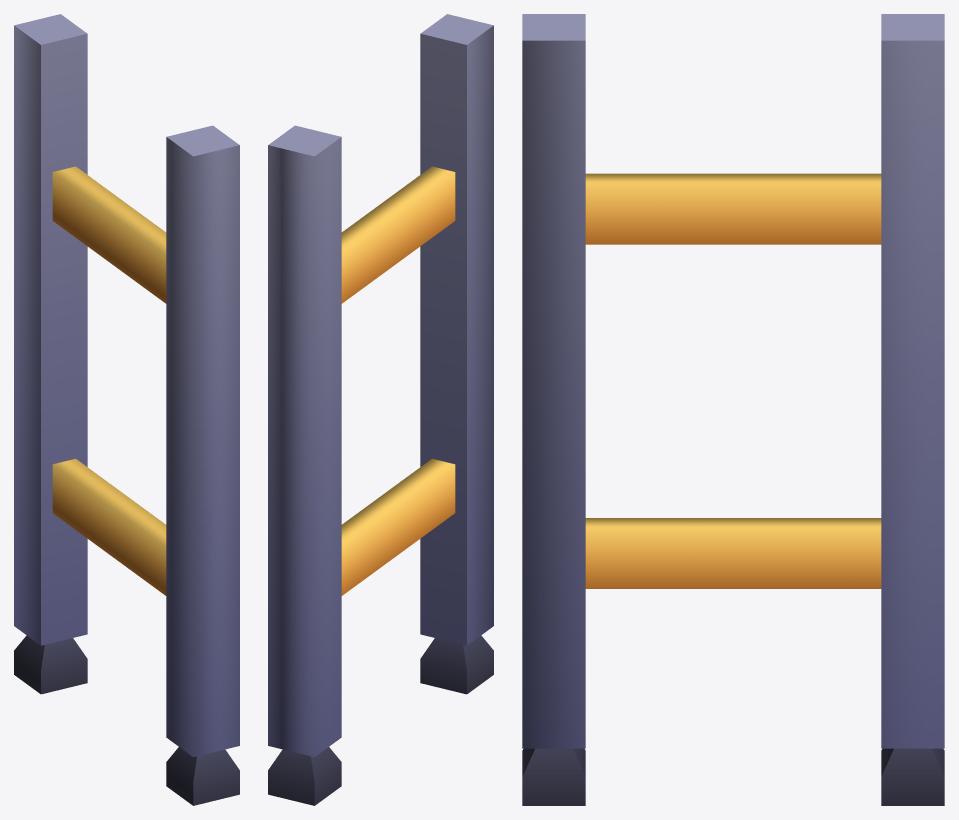
File: structure-yellow-tall.glb
The picture shows the model from 3 angles, left to right: view 1: azimuth 30°, elevation 25°; view 2: azimuth 150°, elevation 25°; view 3: azimuth 270°, elevation 25°; orthographic projection. The views are drawn at different scales.
Parts seen in each view (by area): view 1: structure-yellow-tall; view 2: structure-yellow-tall; view 3: structure-yellow-tall.
Boxes of the visible parts, bbox=[...] form: structure-yellow-tall: bbox=[14, 14, 239, 805]; structure-yellow-tall: bbox=[268, 14, 493, 805]; structure-yellow-tall: bbox=[522, 14, 944, 805].
Size of the model in its own units: 0.15 by 2 by 1.
